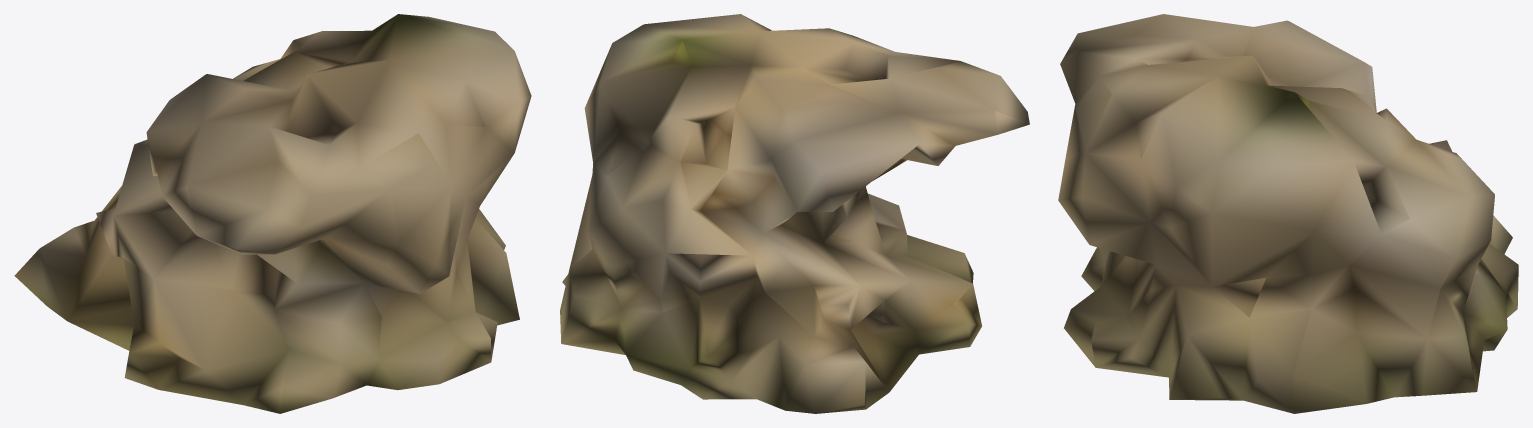
The model's file is env-coral.lod.glb.
3 views of the same model, side by side, from view 1: azimuth 30°, elevation 25°; view 2: azimuth 150°, elevation 25°; view 3: azimuth 270°, elevation 25° (orthographic). The views are drawn at different scales.
Parts seen in each view (by area): view 1: tripo_node_fd98fe63-8a17-4f03-9e3f-b50995866508; view 2: tripo_node_fd98fe63-8a17-4f03-9e3f-b50995866508; view 3: tripo_node_fd98fe63-8a17-4f03-9e3f-b50995866508.
Boxes of the visible parts, <box> form: tripo_node_fd98fe63-8a17-4f03-9e3f-b50995866508: <box>14,14,531,413</box>; tripo_node_fd98fe63-8a17-4f03-9e3f-b50995866508: <box>560,14,1029,413</box>; tripo_node_fd98fe63-8a17-4f03-9e3f-b50995866508: <box>1058,14,1518,413</box>.
Size of the model in its own units: 0.9621 by 0.6593 by 0.9698.
